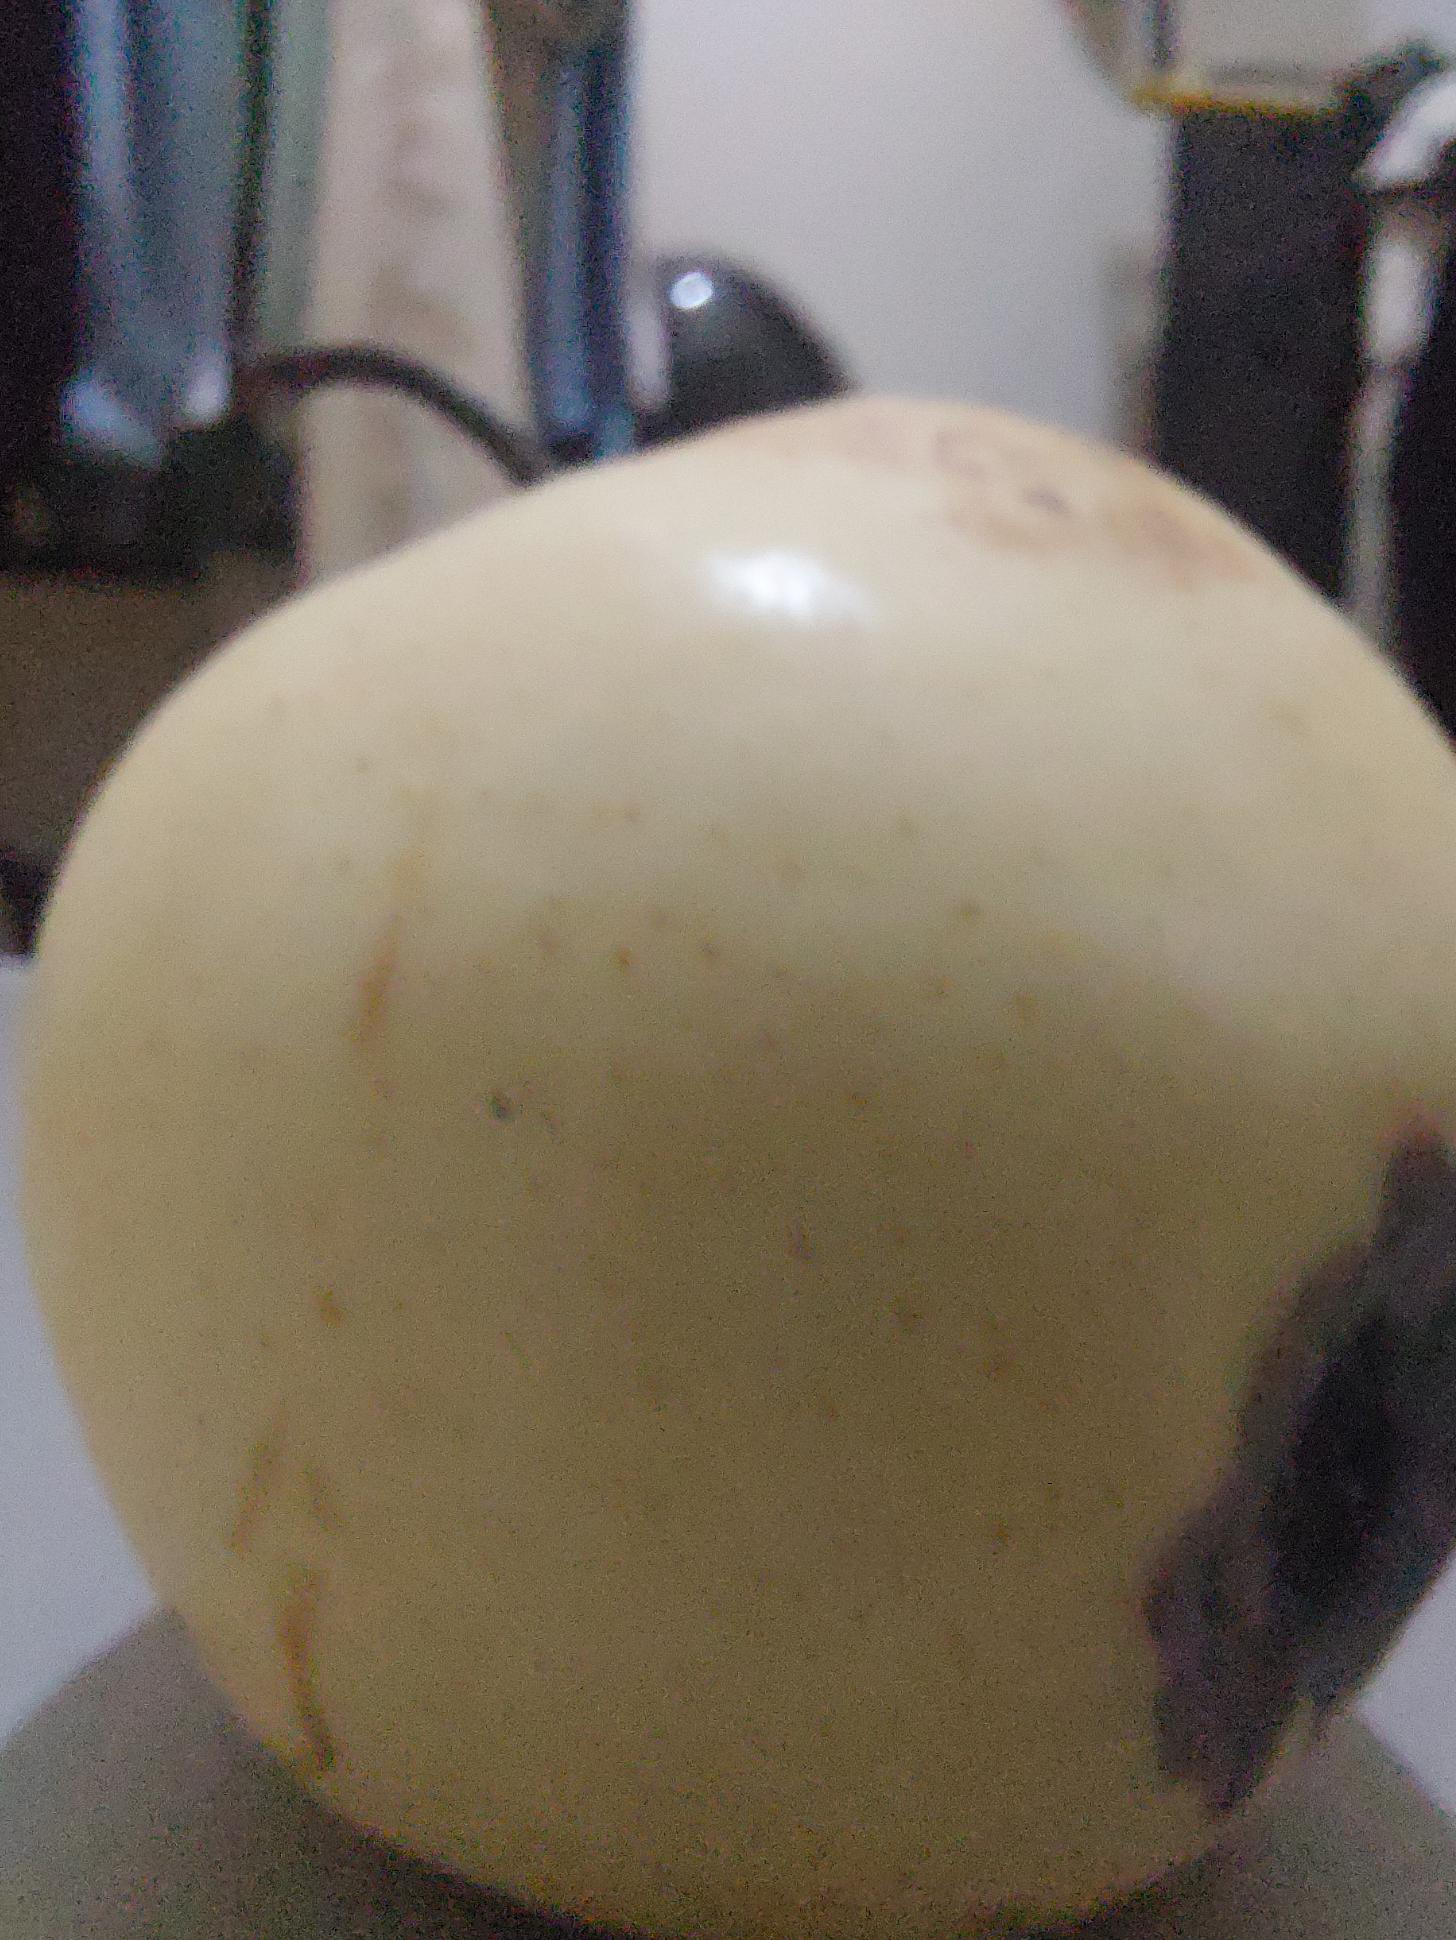Bad Pear: (26, 381, 1456, 1940)
